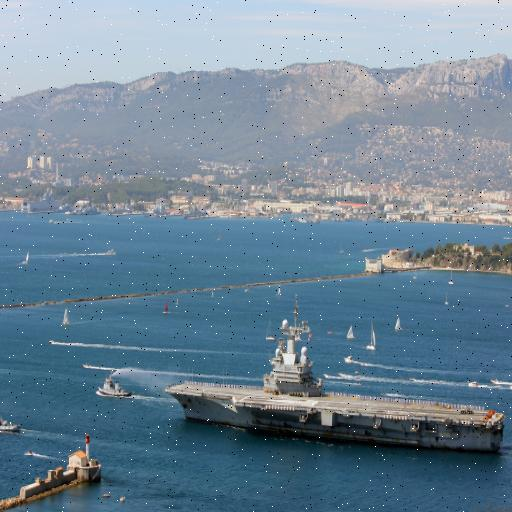Portanaves: (163, 292, 509, 460)
